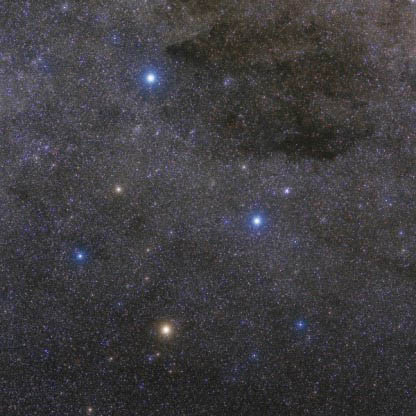Southern Cross: (136, 62, 173, 99), (235, 199, 270, 237), (146, 312, 180, 341), (65, 243, 96, 271)
